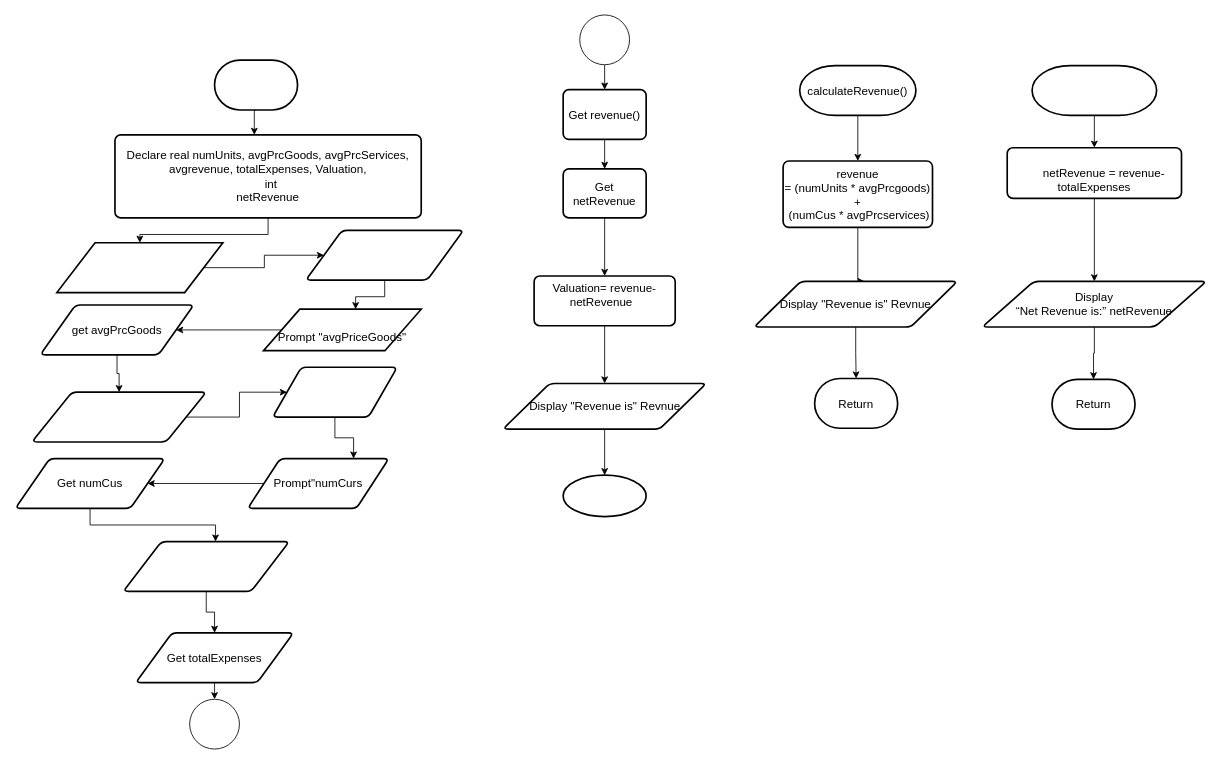
The diagram is 1221 pixels wide and 764 high, and some of its shapes have lost their labels. The centre of each missing label's shape, as x and y in pixels:
avgPrcServices: (334,391)
calculatenetRevenue(): (1094,90)
end: (604,495)
Get numUnits: (384,255)
Module valuation(): (255,84)
Prompt avgPrcServices: (119,416)
Prompt “numUnits’’: (139,267)
Prompt"totalExpenses": (206,566)
